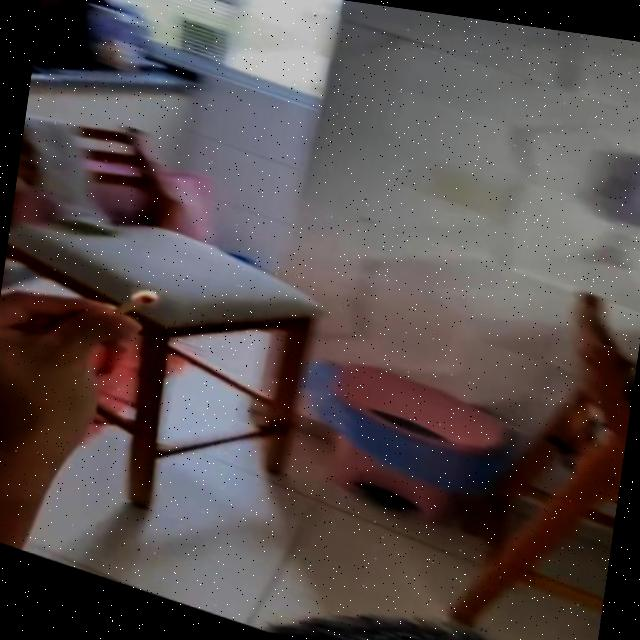fire: (129, 288, 164, 318)
